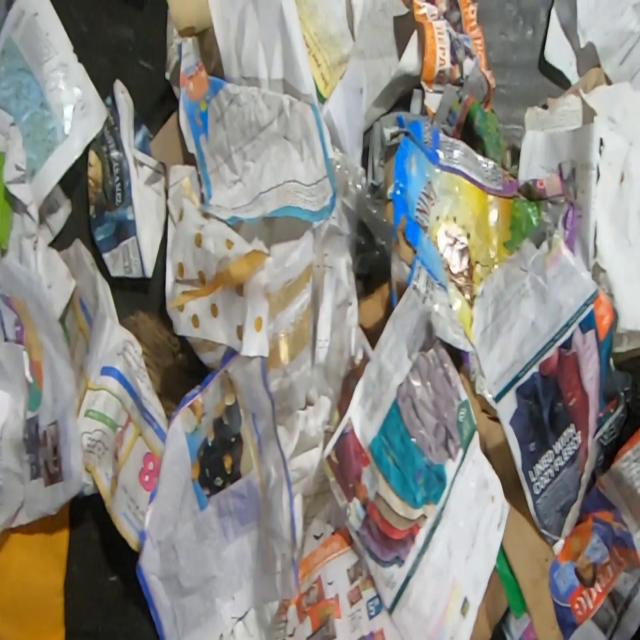cardboard: (357, 111, 578, 411), (458, 365, 565, 640), (86, 77, 166, 278), (122, 307, 216, 425), (149, 108, 198, 192), (468, 563, 510, 640)
rigid_plastic: (330, 145, 390, 255)
